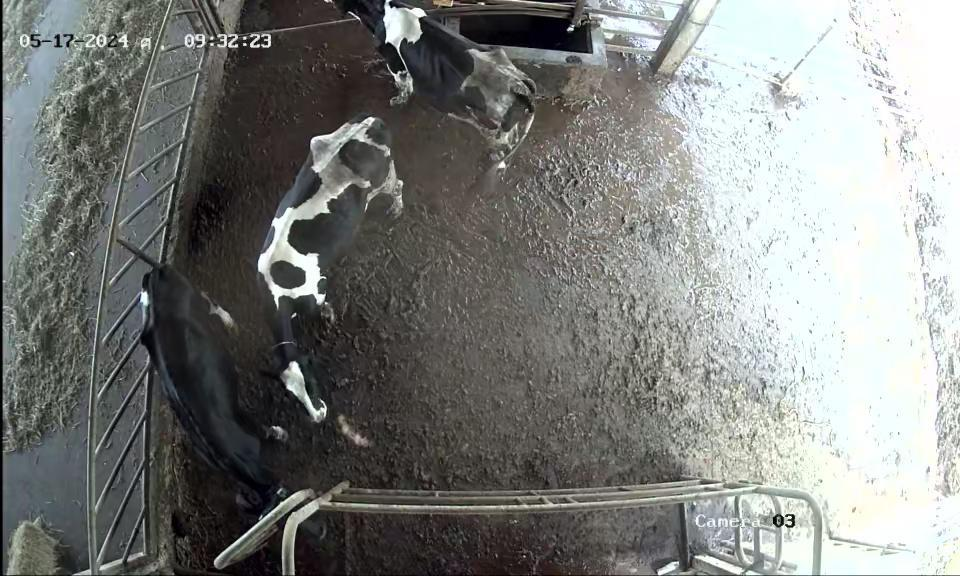stand: (128, 254, 323, 549), (257, 108, 384, 425), (328, 0, 541, 156)
